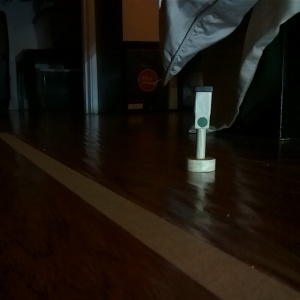traffic light green: (182, 83, 216, 175)
